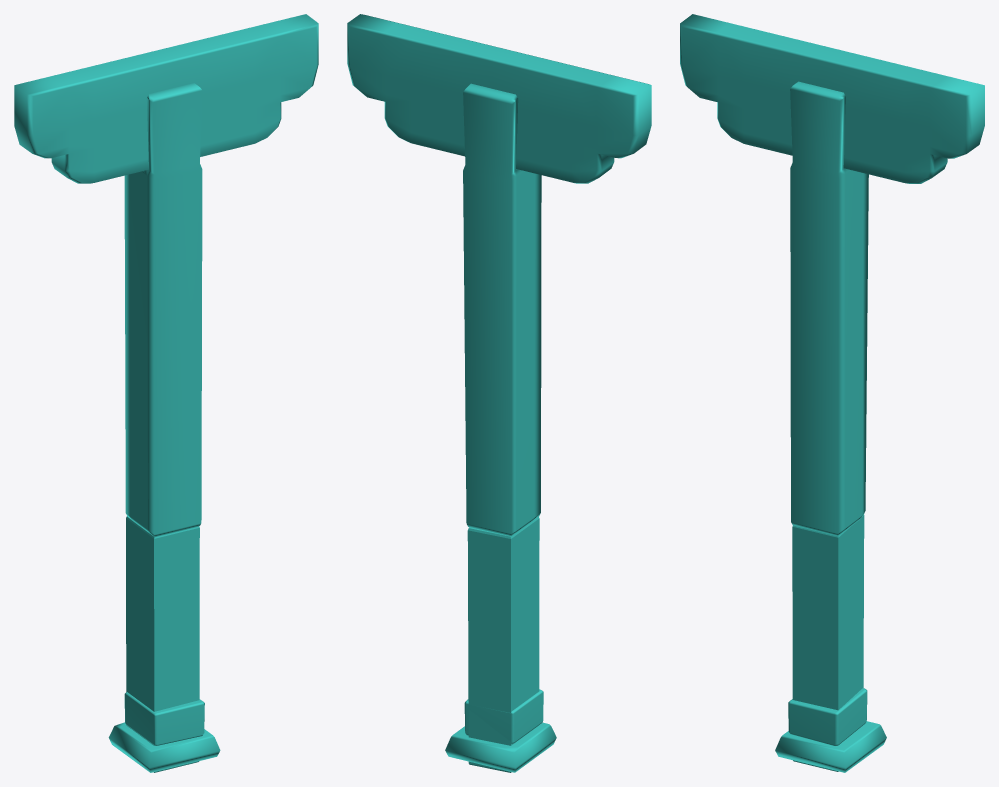
Rendered from Wood_Pillar_02_Lod0.fbx.
3 renders of one model, left to right at view 1: azimuth 30°, elevation 25°; view 2: azimuth 150°, elevation 25°; view 3: azimuth 330°, elevation 25°, orthographic.
Parts seen in each view (by area): view 1: Wood_Pillar_02_Lod0; view 2: Wood_Pillar_02_Lod0; view 3: Wood_Pillar_02_Lod0.
Part boxes in pixels (box(x1,y1,x2,y2)): Wood_Pillar_02_Lod0: box(14, 14, 318, 772); Wood_Pillar_02_Lod0: box(347, 14, 651, 772); Wood_Pillar_02_Lod0: box(680, 14, 984, 772).
Size of the model in its own units: 194 by 446 by 47.13.
